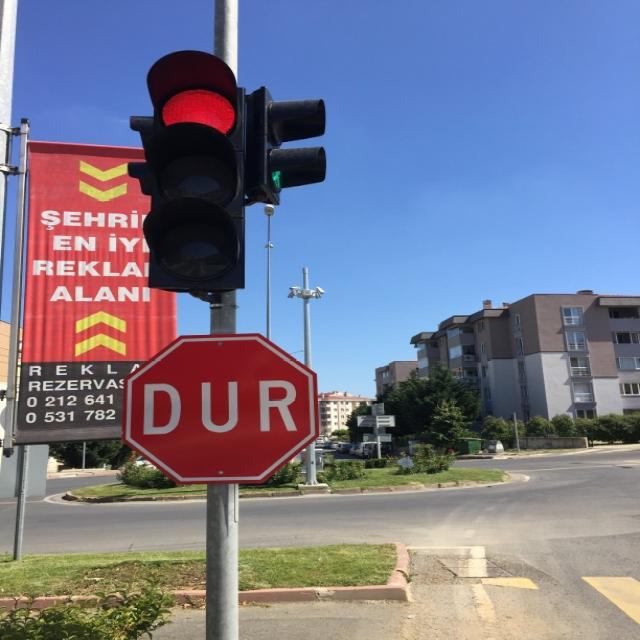dur: (124, 333, 319, 483)
kirmizi: (147, 52, 245, 290)
